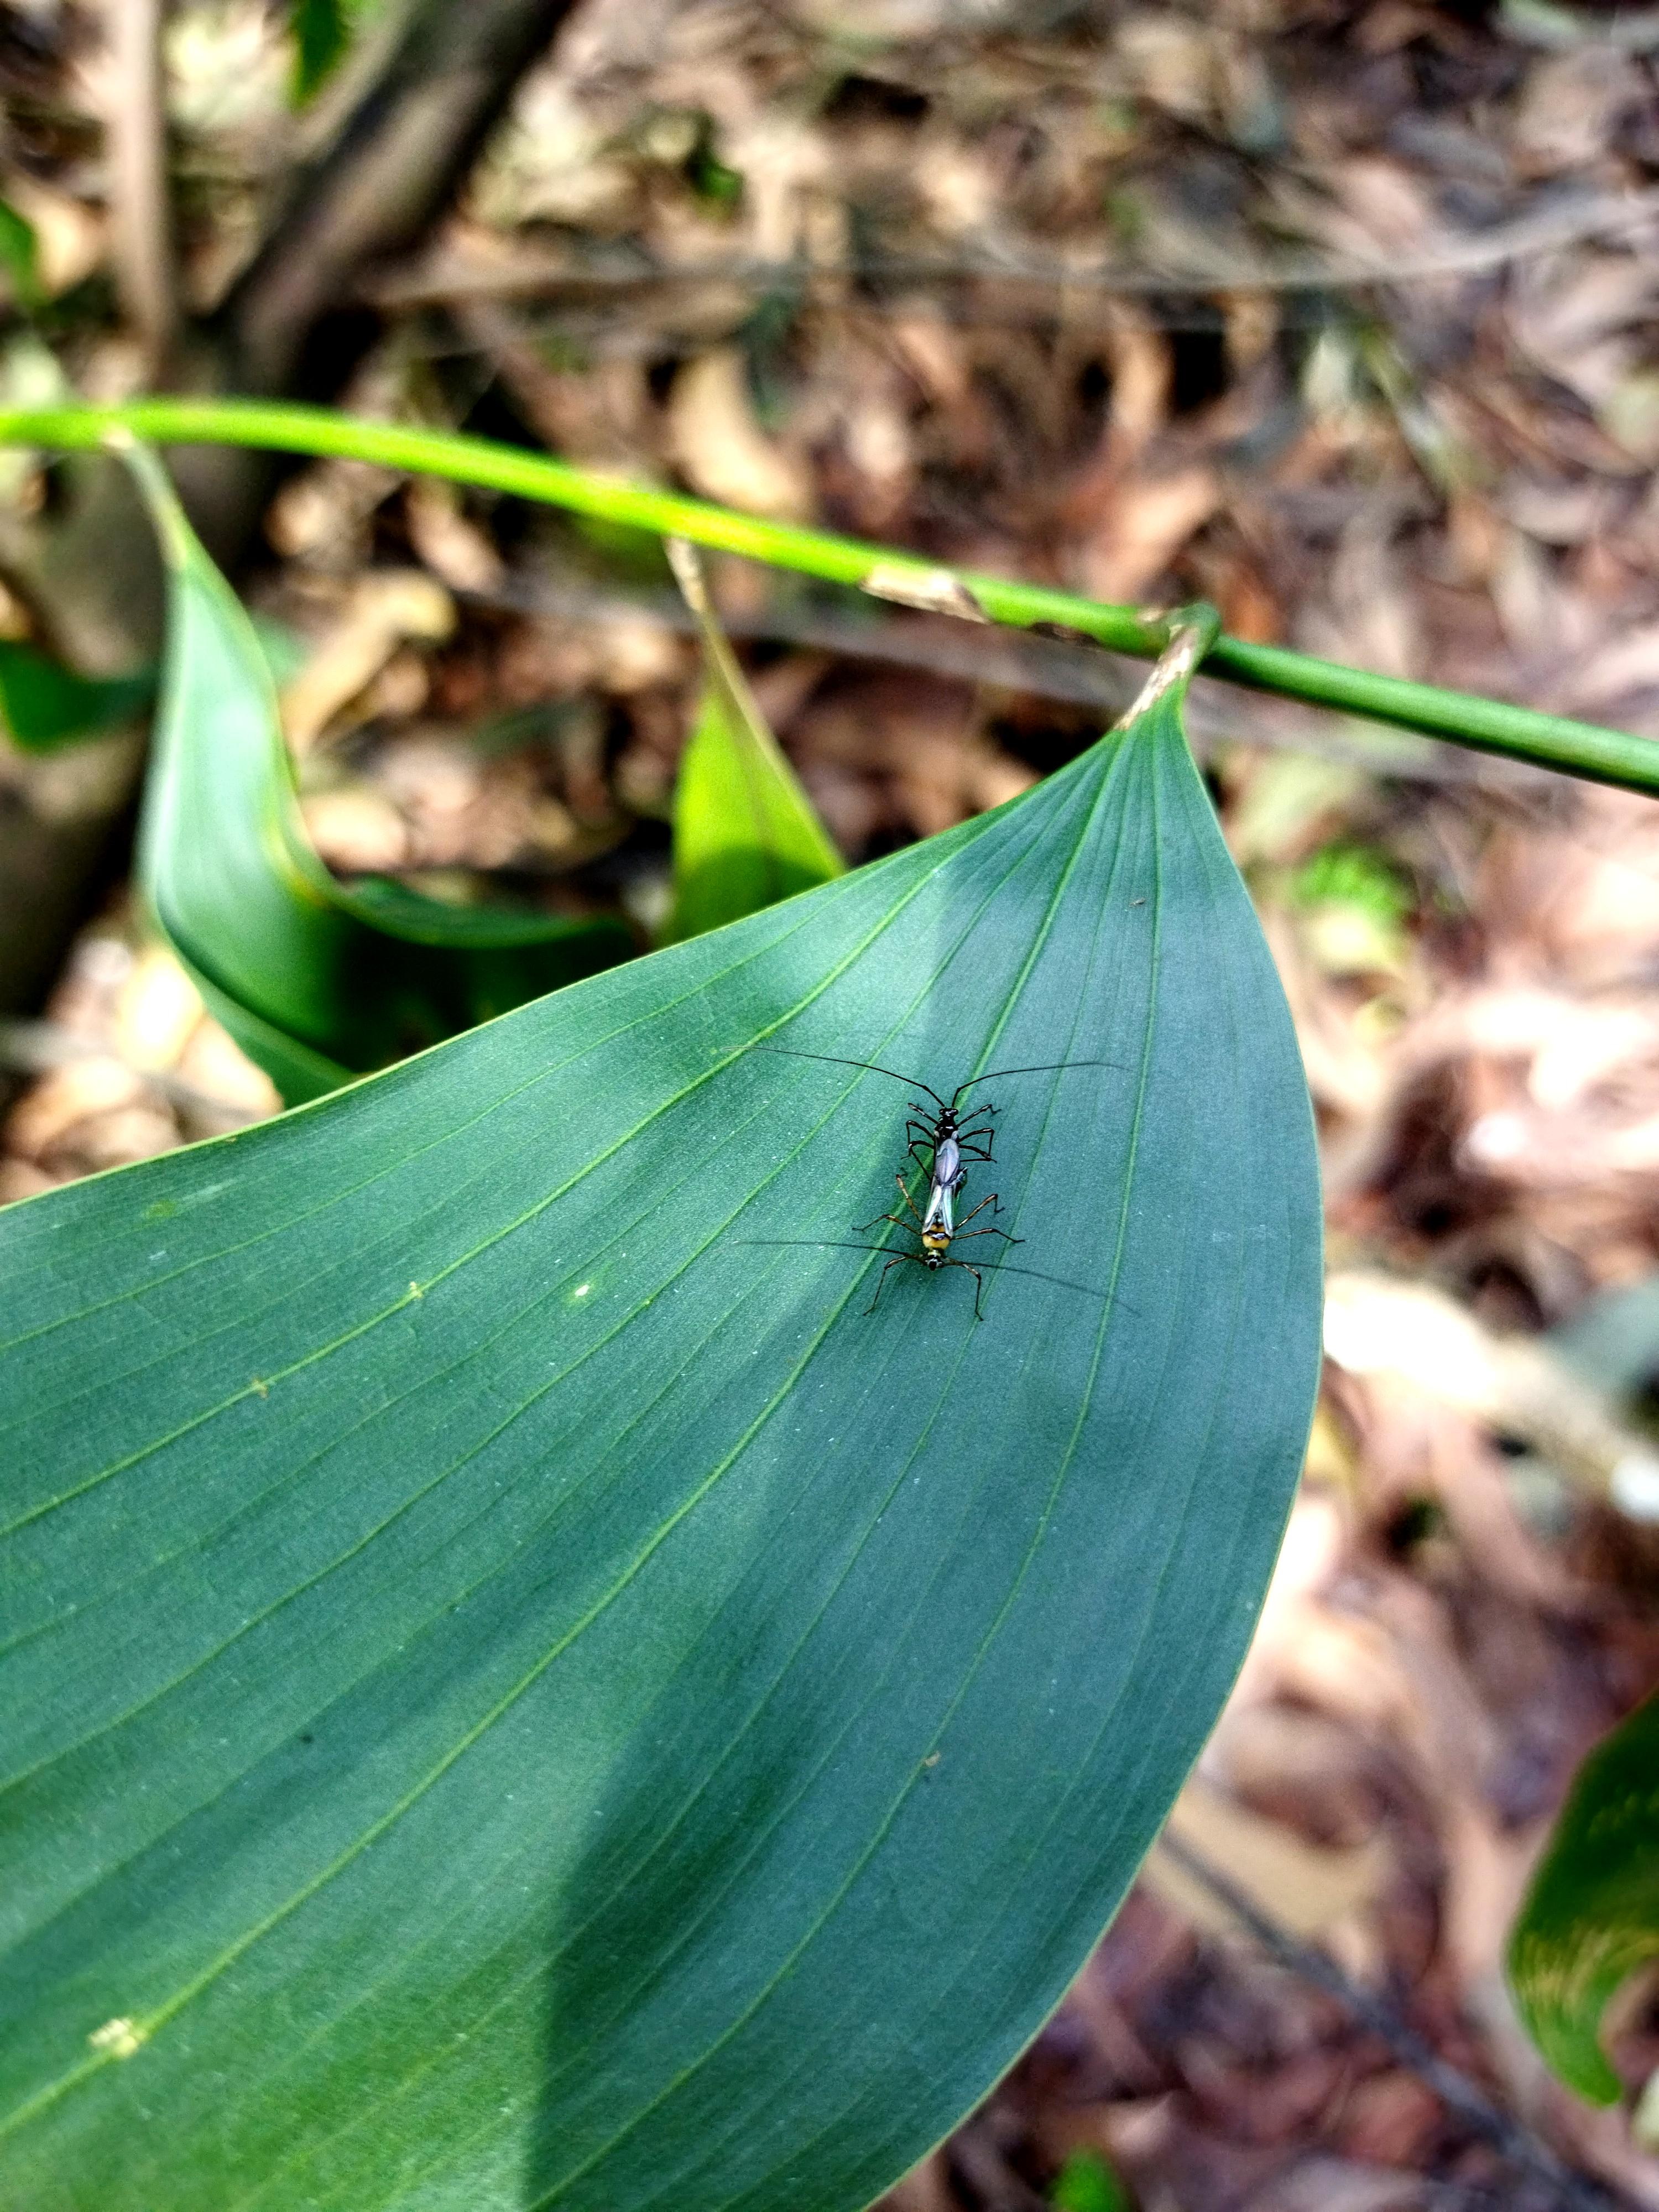Helopeltis-insect: (842, 1047, 1054, 1324)
